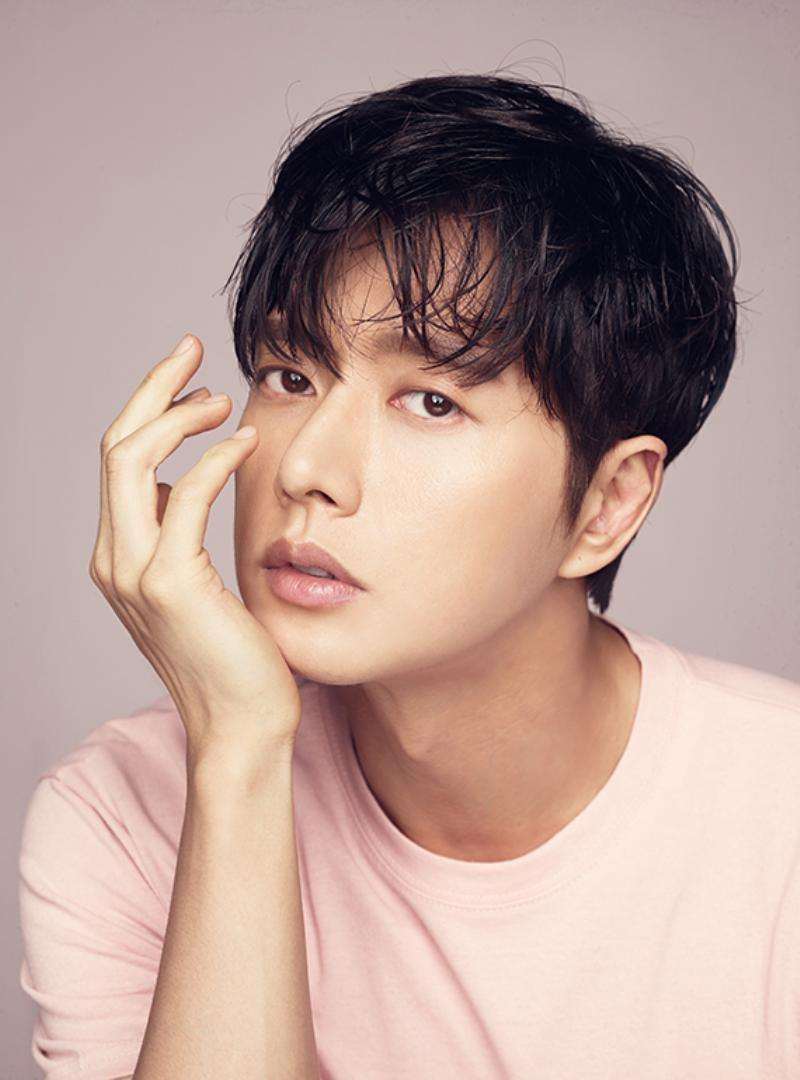person: (55, 65, 690, 1013)
